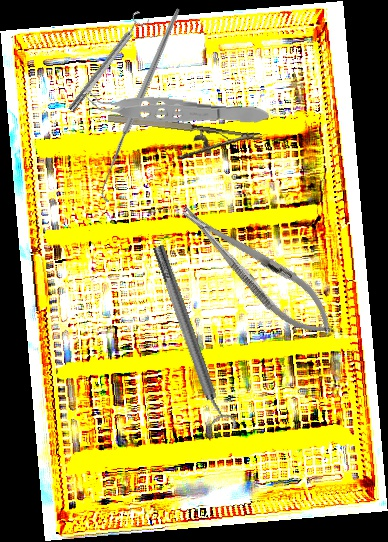Fixation Ring: (144, 240, 239, 438), (62, 9, 152, 116)
Hook Surgical: (37, 6, 247, 204)
Needle Holder: (170, 191, 345, 350), (103, 109, 263, 172)
Tissue Forceps: (81, 87, 270, 131)
